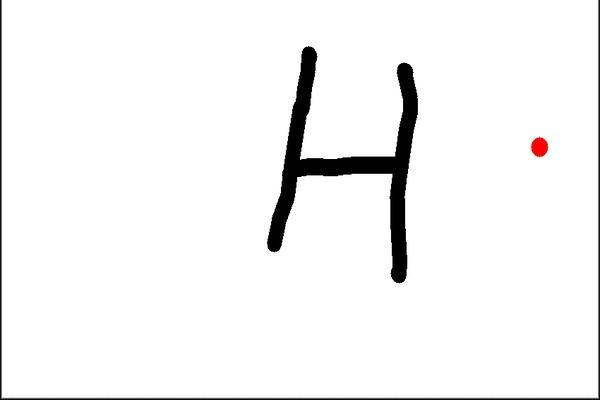H: (258, 33, 422, 290)
